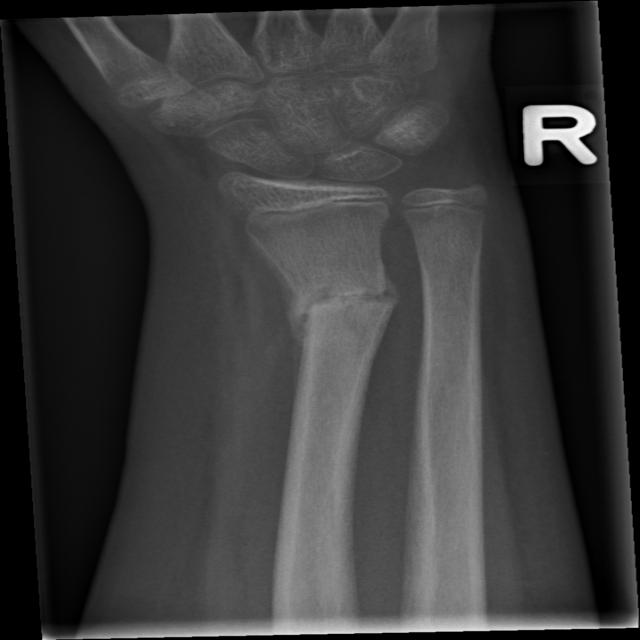radius fracture: (263, 249, 411, 393)
